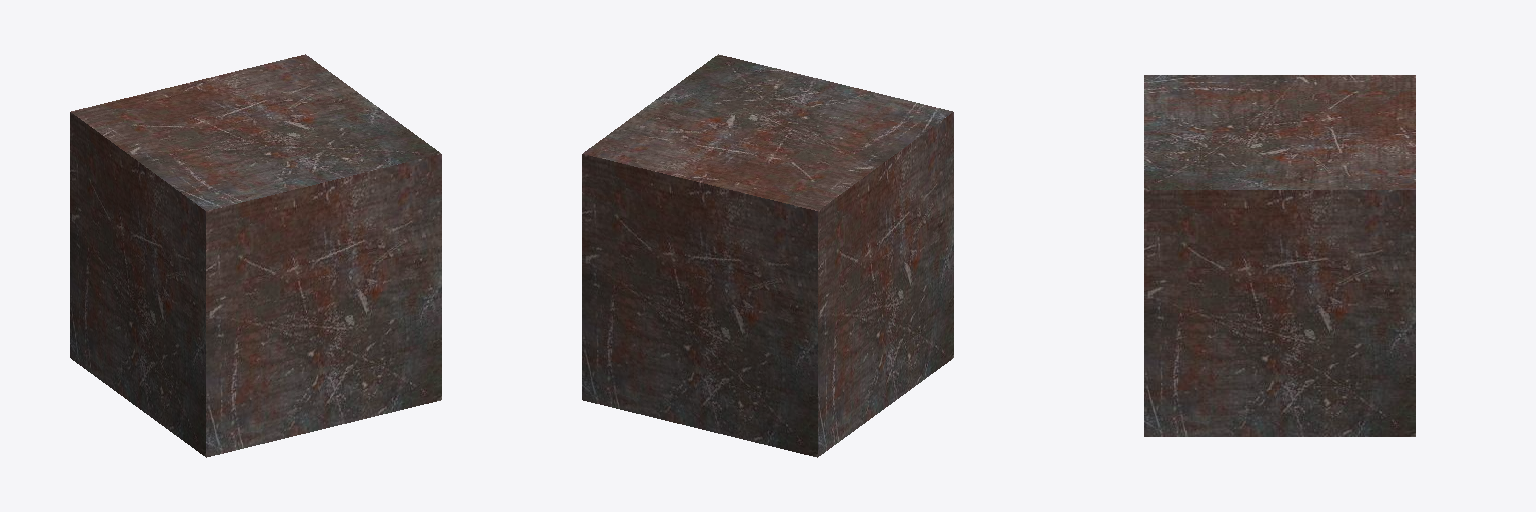
3 renders of one model, left to right at view 1: azimuth 30°, elevation 25°; view 2: azimuth 150°, elevation 25°; view 3: azimuth 270°, elevation 25°, orthographic.
Parts seen in each view (by area): view 1: Box001; view 2: Box001; view 3: Box001.
Boxes of the visible parts, x1=… form: Box001: x1=70, y1=54, x2=441, y2=457; Box001: x1=582, y1=54, x2=953, y2=457; Box001: x1=1144, y1=75, x2=1415, y2=436.
Bounding box in the file's own units: 1 × 1 × 1.
1 materials, 1 textured.